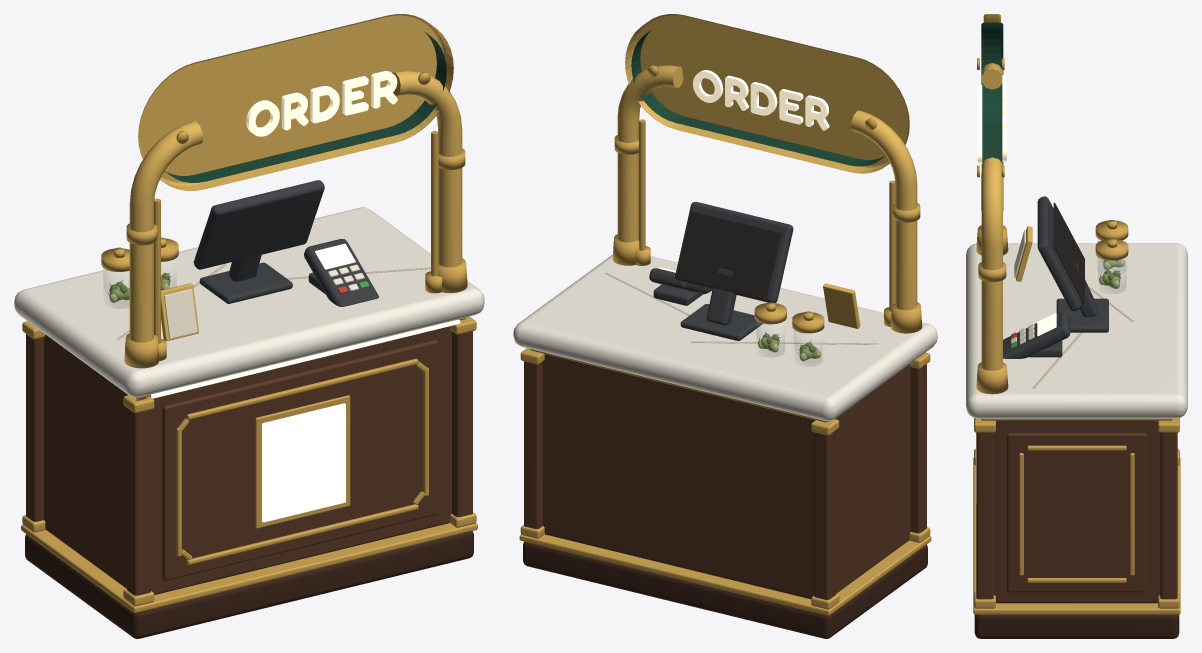
File: order_desk_tier4.glb
The picture shows the model from 3 angles, left to right: view 1: azimuth 30°, elevation 25°; view 2: azimuth 150°, elevation 25°; view 3: azimuth 270°, elevation 25°; orthographic projection. The views are drawn at different scales.
Parts seen in each view (by area): view 1: Top, FrontPanel, SignBorder, Body, Plinth, LeafPanel, Monitor, PlinthBrass, ArchPost-1, ArchPost1, Pilaster-1-1, SignText0 (+18 smaller); view 2: Body, Top, SignBorder, Plinth, MonitorGlass, PlinthBrass, ArchPost-1, ArchPost1, Pilaster-11, SignText1, Pilaster11, Pilaster-1-1 (+14 smaller); view 3: Top, EndPanel, Body, Plinth, ArchPost1, PlinthBrass, Pilaster1-1, Pilaster11, Sign, Monitor, MonitorGlass, Reader (+18 smaller).
Part boxes in pixels (x1=…): Top: x1=14, y1=207, x2=484, y2=397; FrontPanel: x1=162, y1=339, x2=438, y2=580; SignBorder: x1=138, y1=14, x2=453, y2=190; Body: x1=44, y1=326, x2=451, y2=594; Plinth: x1=25, y1=531, x2=473, y2=638; LeafPanel: x1=262, y1=403, x2=345, y2=522; Monitor: x1=193, y1=180, x2=324, y2=269; PlinthBrass: x1=21, y1=523, x2=477, y2=612; ArchPost-1: x1=129, y1=121, x2=203, y2=342; ArchPost1: x1=392, y1=71, x2=462, y2=267; Pilaster-1-1: x1=127, y1=397, x2=150, y2=595; SignText0: x1=246, y1=71, x2=397, y2=136; Body: x1=543, y1=354, x2=910, y2=599; Top: x1=513, y1=254, x2=937, y2=420; SignBorder: x1=625, y1=14, x2=909, y2=173; Plinth: x1=523, y1=541, x2=927, y2=638; MonitorGlass: x1=676, y1=211, x2=781, y2=300; PlinthBrass: x1=519, y1=534, x2=931, y2=615; ArchPost-1: x1=851, y1=110, x2=917, y2=310; ArchPost1: x1=617, y1=65, x2=683, y2=242; Pilaster-11: x1=814, y1=430, x2=835, y2=599; SignText1: x1=693, y1=70, x2=829, y2=130; Pilaster11: x1=524, y1=361, x2=542, y2=528; Pilaster-1-1: x1=910, y1=364, x2=926, y2=533; Top: x1=966, y1=243, x2=1187, y2=418; EndPanel: x1=1007, y1=432, x2=1146, y2=592; Body: x1=993, y1=420, x2=1160, y2=603; Plinth: x1=974, y1=614, x2=1179, y2=638; ArchPost1: x1=981, y1=157, x2=1002, y2=370; PlinthBrass: x1=973, y1=457, x2=1180, y2=614; Pilaster1-1: x1=976, y1=432, x2=993, y2=599; Pilaster11: x1=1160, y1=432, x2=1177, y2=599; Sign: x1=981, y1=22, x2=1003, y2=210; Monitor: x1=1037, y1=196, x2=1080, y2=311; MonitorGlass: x1=1053, y1=202, x2=1084, y2=303; Reader: x1=1003, y1=310, x2=1070, y2=358.
Bounding box in the file's own units: 1.29 × 1.9 × 0.76.
